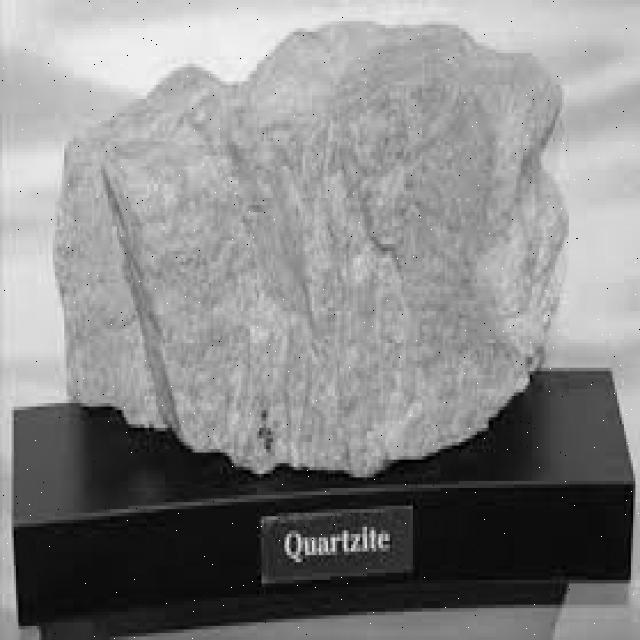Metamorphic: (39, 14, 569, 449)
